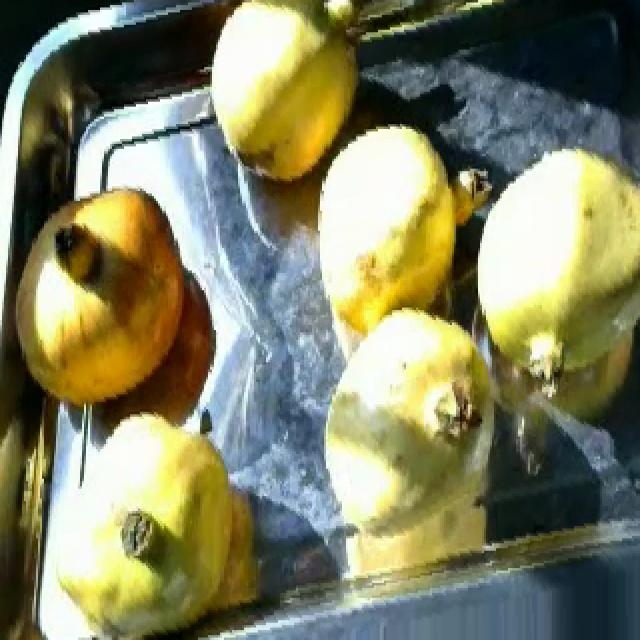fruit: (40, 389, 278, 640), (2, 171, 210, 429), (190, 0, 392, 208), (310, 283, 510, 484)
